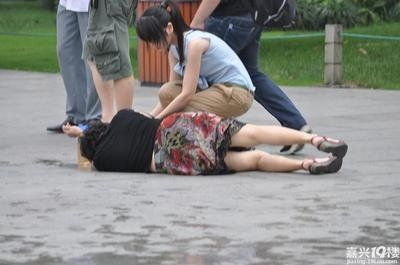fall: (57, 104, 351, 178)
